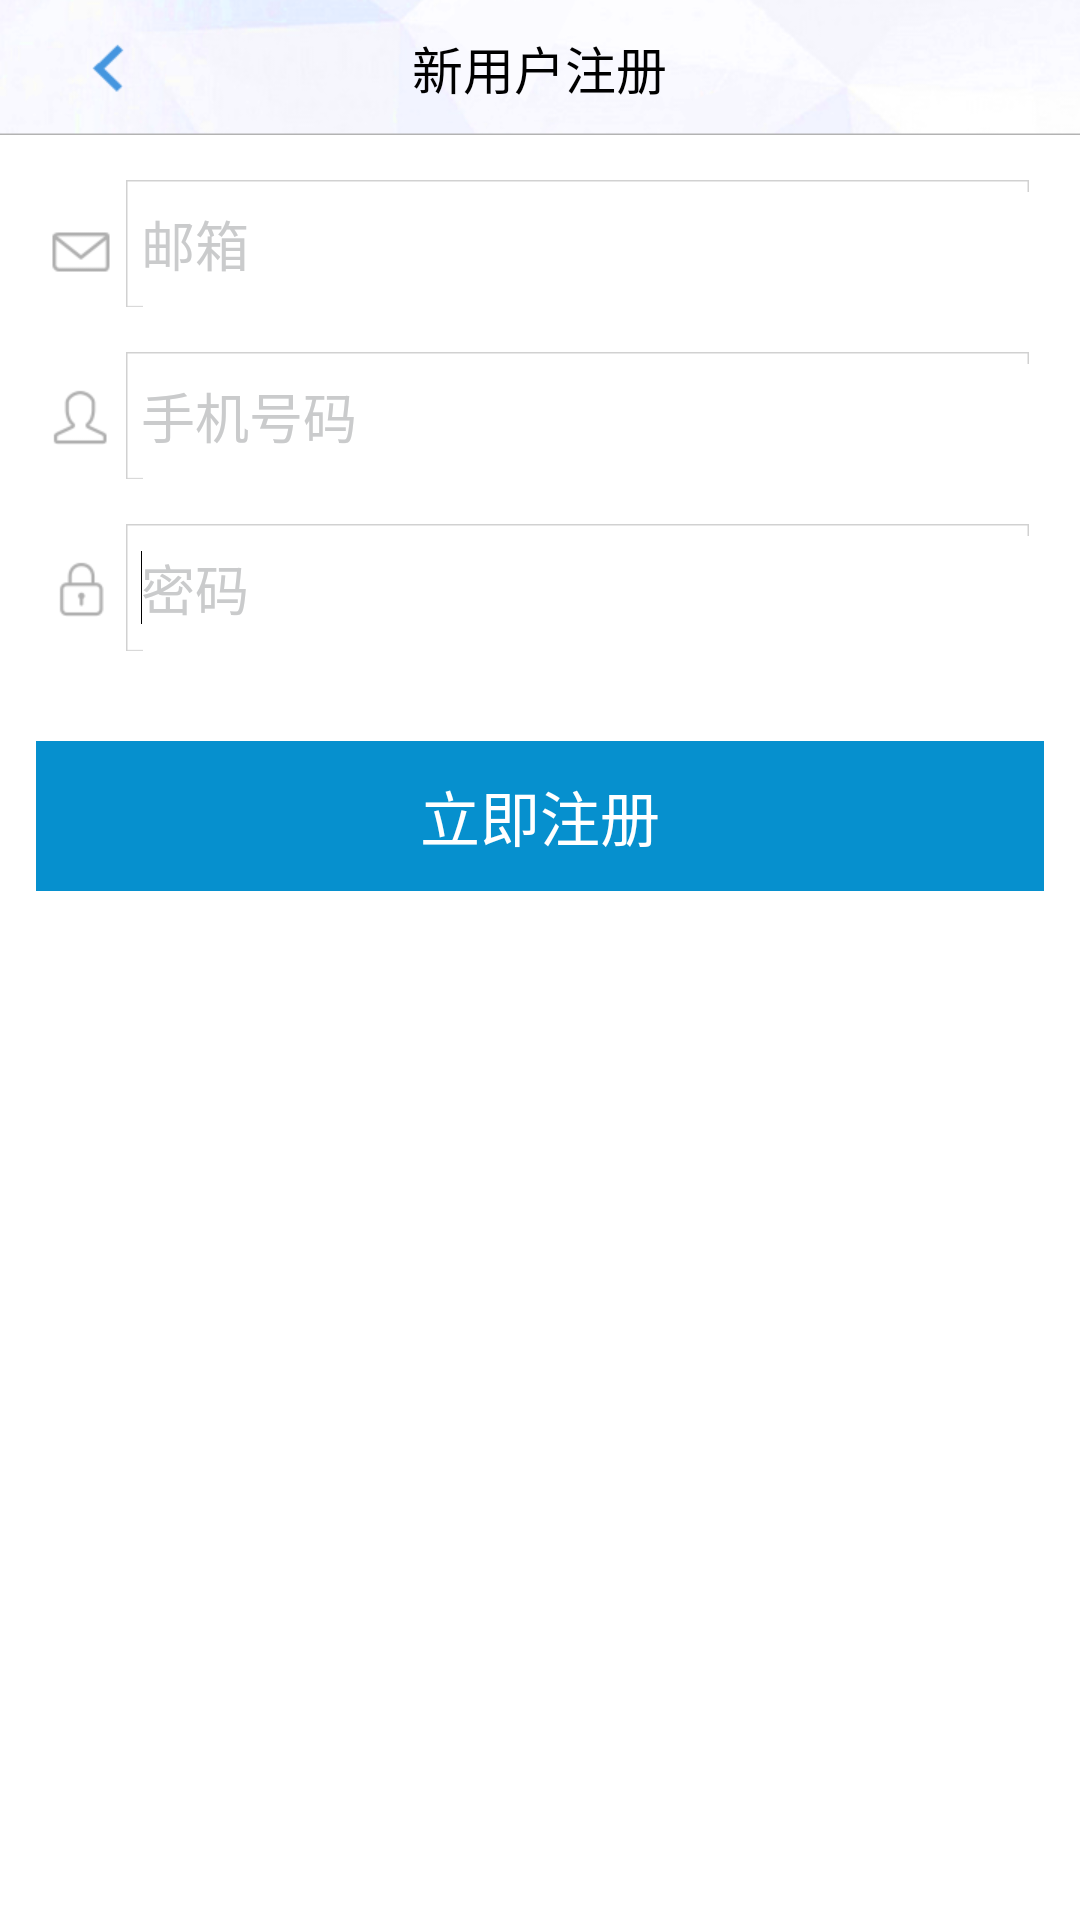

Named icons in this screenshot (1080px x 1920px) and their bounding boxes, Rect(x1, y1, x2, y2):
return: Rect(93, 45, 123, 92)
